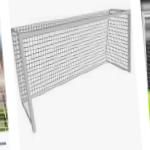goals: (11, 6, 133, 135)
